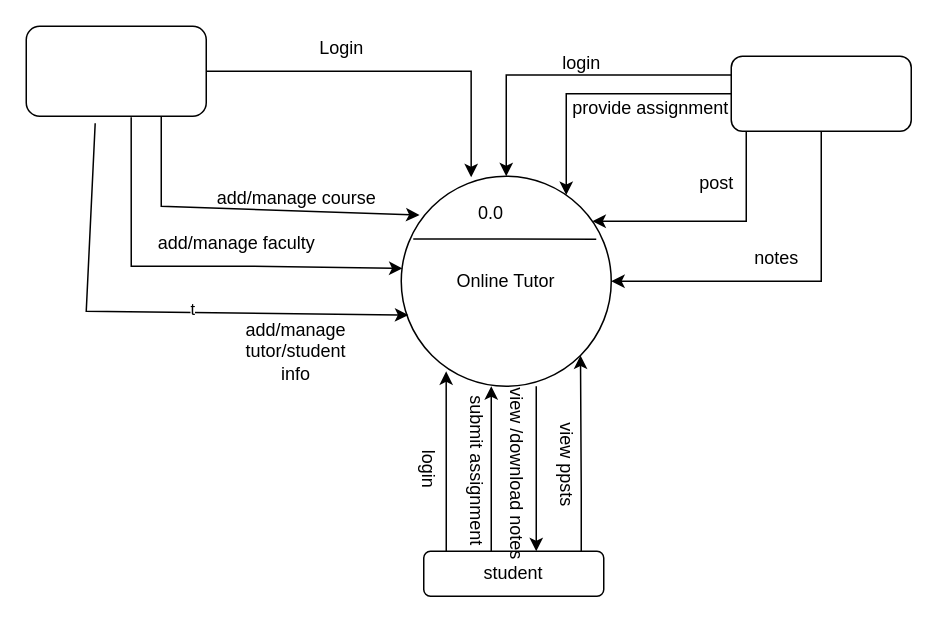
The diagram is 938 pixels wide and 623 high, and some of its shapes have lost their labels. The centre of each missing label's shape, as x and y in pixels:
Admin: point 115,70
Tutor: point 820,93
